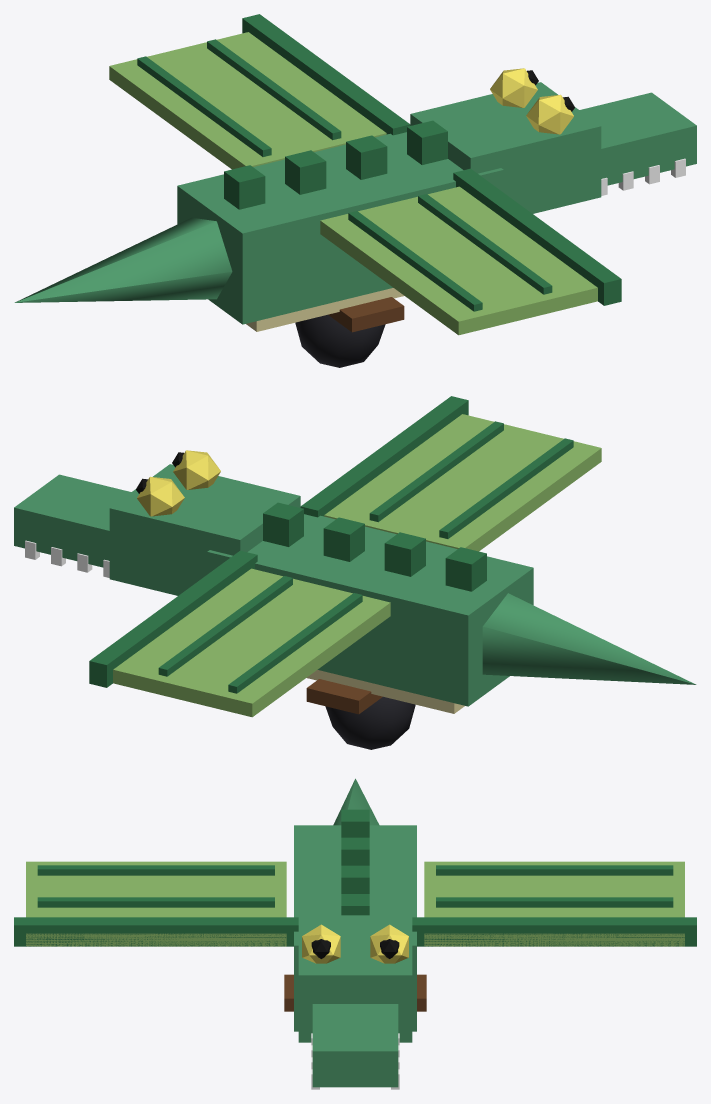
Rendered from level1.glb.
The picture shows the model from 3 angles, top to bottom: view 1: azimuth 30°, elevation 25°; view 2: azimuth 150°, elevation 25°; view 3: azimuth 270°, elevation 25°; orthographic projection. The views are drawn at different scales.
Parts seen in each view (by area): view 1: wingL, wingR, object 1, object 3, object 17, object 4, object 24, object 26, object 2, object 20, object 19, object 21 (+3 smaller); view 2: wingR, wingL, object 1, object 3, object 17, object 4, object 24, object 26, object 2, object 20, object 19, object 21 (+3 smaller); view 3: wingL, wingR, object 1, object 3, object 4, object 5, object 7, object 19, object 20, object 21, object 26, object 17 (+1 smaller).
Boxes of the visible parts, left/top/right/bottom form: wingL: left=320, top=168, right=621, bottom=335; wingR: left=109, top=14, right=410, bottom=169; object 1: left=177, top=132, right=503, bottom=324; object 3: left=410, top=82, right=601, bottom=213; object 17: left=14, top=217, right=232, bottom=302; object 4: left=579, top=92, right=696, bottom=185; object 24: left=295, top=314, right=385, bottom=367; object 26: left=328, top=297, right=404, bottom=332; object 2: left=246, top=288, right=404, bottom=331; object 20: left=285, top=150, right=326, bottom=194; object 19: left=346, top=135, right=387, bottom=179; object 21: left=224, top=165, right=265, bottom=209; wingR: left=89, top=550, right=390, bottom=717; wingL: left=300, top=396, right=601, bottom=551; object 1: left=207, top=514, right=533, bottom=706; object 3: left=109, top=464, right=300, bottom=595; object 17: left=482, top=593, right=696, bottom=684; object 4: left=14, top=474, right=131, bottom=567; object 24: left=325, top=696, right=415, bottom=749; object 26: left=306, top=679, right=382, bottom=714; object 2: left=306, top=670, right=464, bottom=713; object 20: left=384, top=532, right=425, bottom=576; object 19: left=323, top=517, right=364, bottom=561; object 21: left=445, top=547, right=486, bottom=591; wingL: left=14, top=861, right=298, bottom=946; wingR: left=412, top=861, right=696, bottom=946; object 1: left=294, top=825, right=416, bottom=1031; object 3: left=298, top=915, right=412, bottom=1042; object 4: left=312, top=1004, right=398, bottom=1087; object 5: left=370, top=924, right=408, bottom=963; object 7: left=302, top=924, right=340, bottom=963; object 19: left=341, top=865, right=369, bottom=893; object 20: left=341, top=837, right=369, bottom=865; object 21: left=341, top=809, right=369, bottom=837; object 26: left=284, top=974, right=426, bottom=1011; object 17: left=333, top=778, right=379, bottom=825.
Bounding box in the file's own units: 1.67 × 0.5641 × 1.58.
